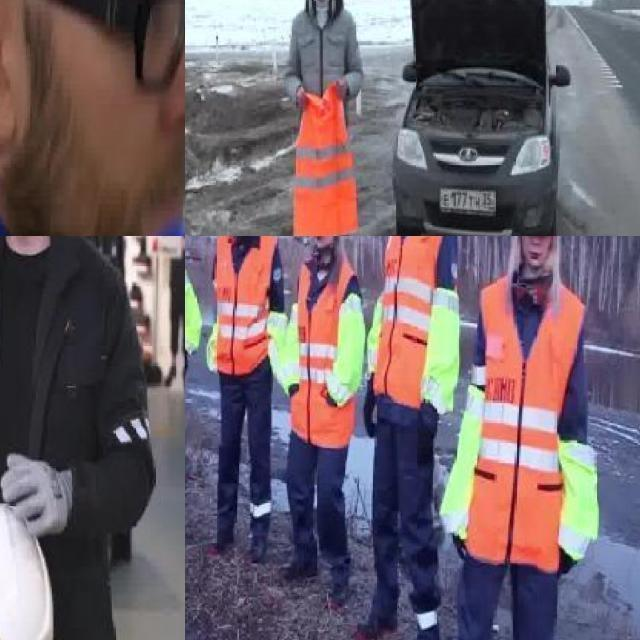apron: (0, 449, 75, 538), (364, 374, 377, 432), (185, 346, 188, 385)
